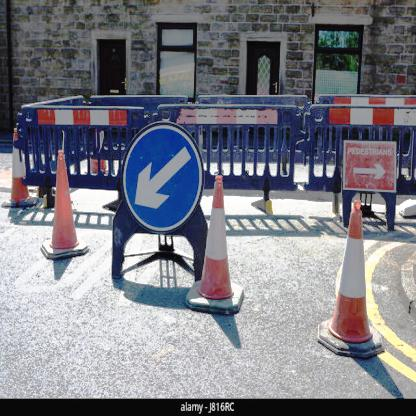Keep left: (113, 121, 206, 233)
